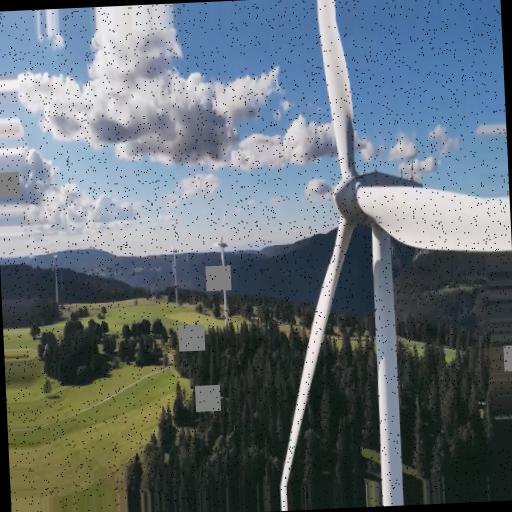wind turbine: (280, 2, 511, 490)
